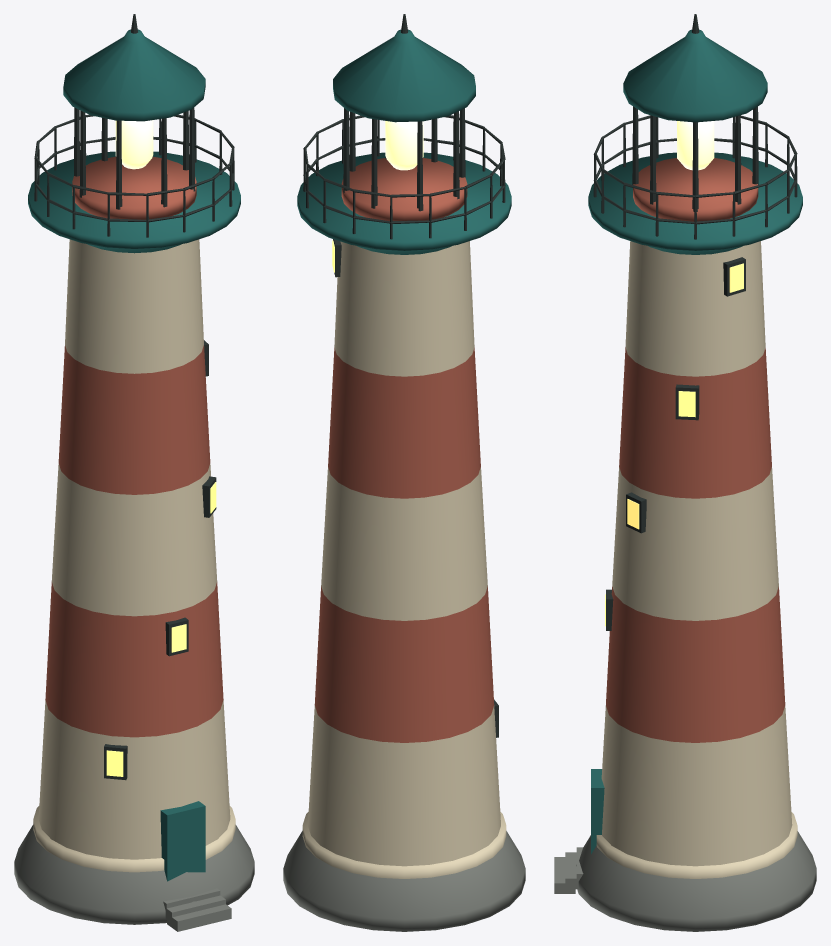
Rendered from SM_Lighthouse.glb.
3 views of the same model, side by side, from view 1: azimuth 30°, elevation 25°; view 2: azimuth 150°, elevation 25°; view 3: azimuth 270°, elevation 25° (orthographic).
Visible parts, largest first — view 1: SM_Lighthouse; view 2: SM_Lighthouse; view 3: SM_Lighthouse.
Boxes of the visible parts, box(x1,y1,x2,y2) form: SM_Lighthouse: box(14, 14, 254, 931); SM_Lighthouse: box(283, 14, 525, 931); SM_Lighthouse: box(554, 14, 816, 931).
Size of the model in its own units: 4.56 by 18 by 4.94.
